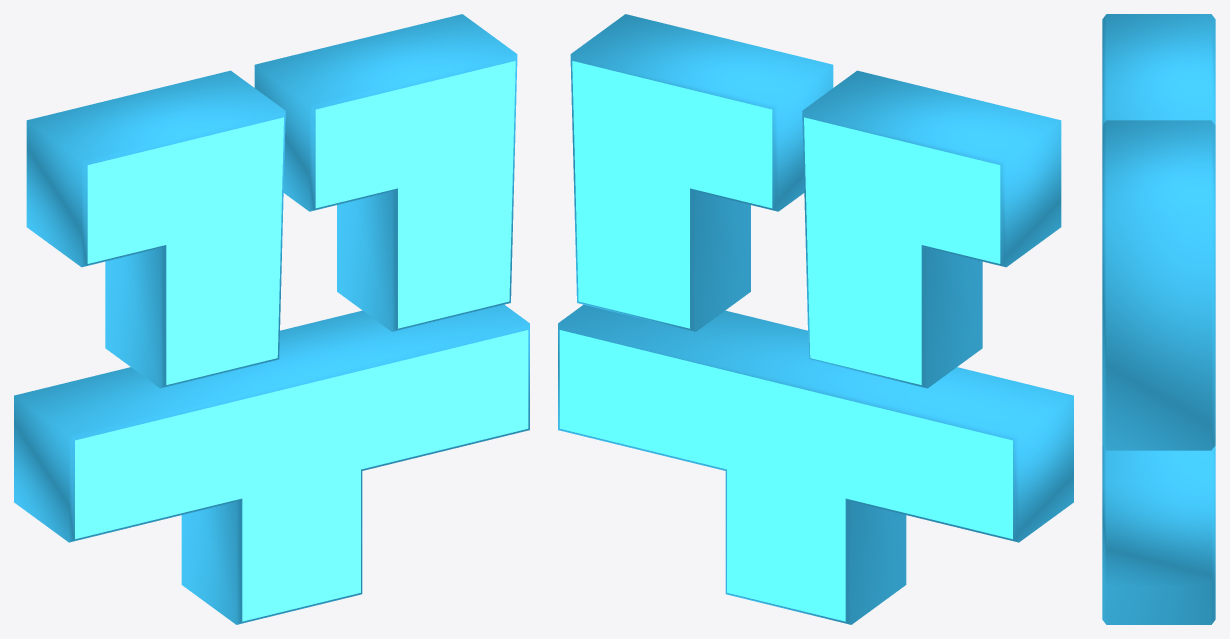
The model's file is u_afb8_b.glb.
3 renders of one model, left to right at view 1: azimuth 30°, elevation 25°; view 2: azimuth 150°, elevation 25°; view 3: azimuth 270°, elevation 25°, orthographic. The views are drawn at different scales.
Parts seen in each view (by area): view 1: glyph; view 2: glyph; view 3: glyph.
Boxes of the visible parts, left/top/right/bottom form: glyph: left=14, top=14, right=529, bottom=624; glyph: left=558, top=14, right=1073, bottom=624; glyph: left=1102, top=14, right=1215, bottom=624.
Size of the model in its own units: 0.0726 by 0.0756 by 0.0162.
